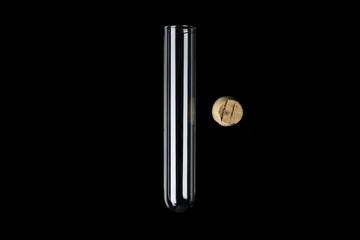Test tube: (147, 15, 201, 212)
